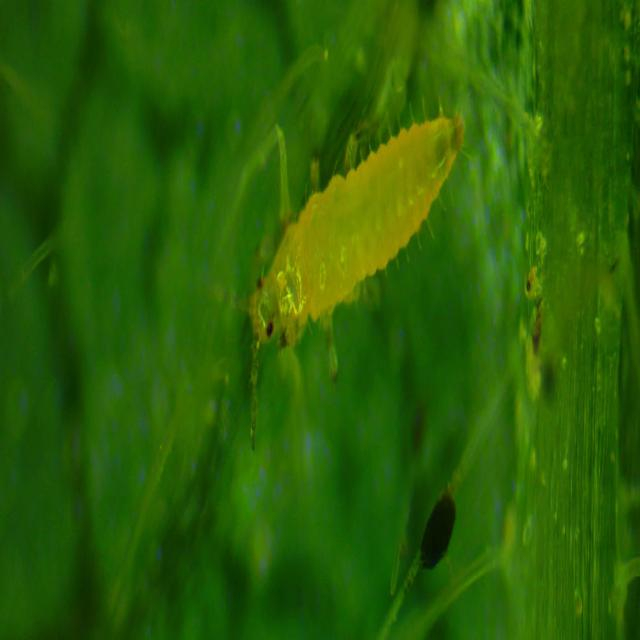Thrip-Larva-: (205, 78, 473, 380)
